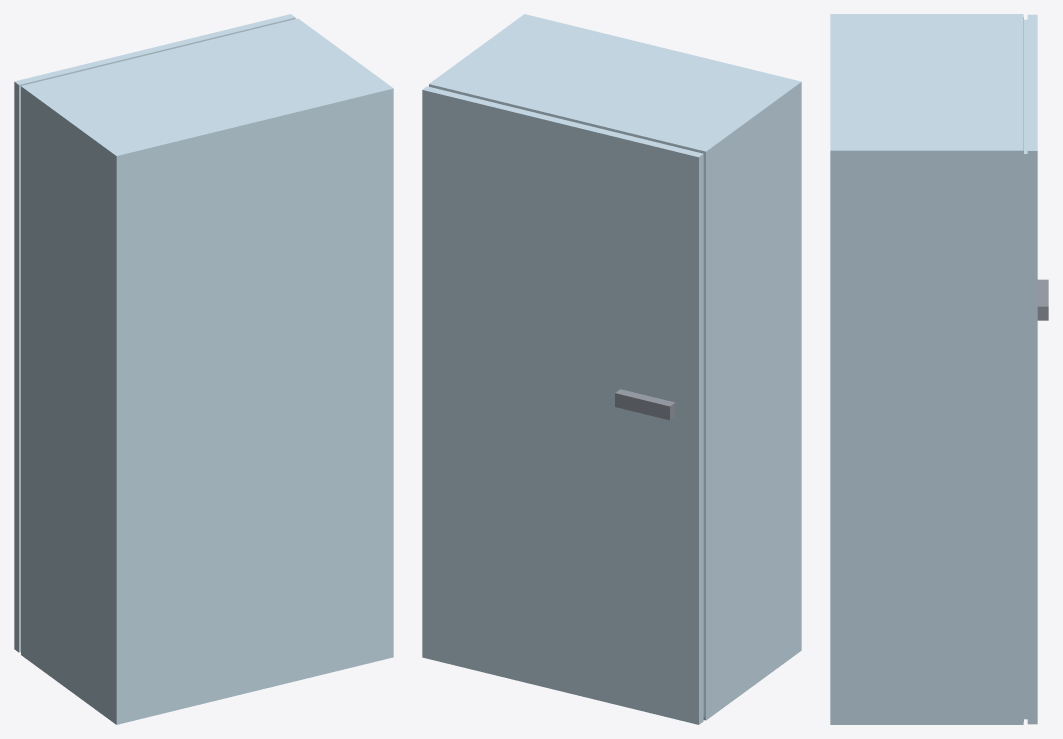
Rendered from kitchenFridge.fbx.
3 renders of one model, left to right at view 1: azimuth 30°, elevation 25°; view 2: azimuth 150°, elevation 25°; view 3: azimuth 270°, elevation 25°, orthographic.
Parts seen in each view (by area): view 1: Cube.020; view 2: Cube.020, Cube.024; view 3: Cube.020, Cube.024.
Part boxes in pixels (left/top/right/bottom): Cube.020: left=14, top=14, right=393, bottom=724; Cube.020: left=422, top=14, right=801, bottom=724; Cube.024: left=615, top=389, right=675, bottom=420; Cube.020: left=830, top=14, right=1037, bottom=724; Cube.024: left=1037, top=279, right=1048, bottom=320.
Size of the model in its own units: 84.02 by 165 by 56.74.
